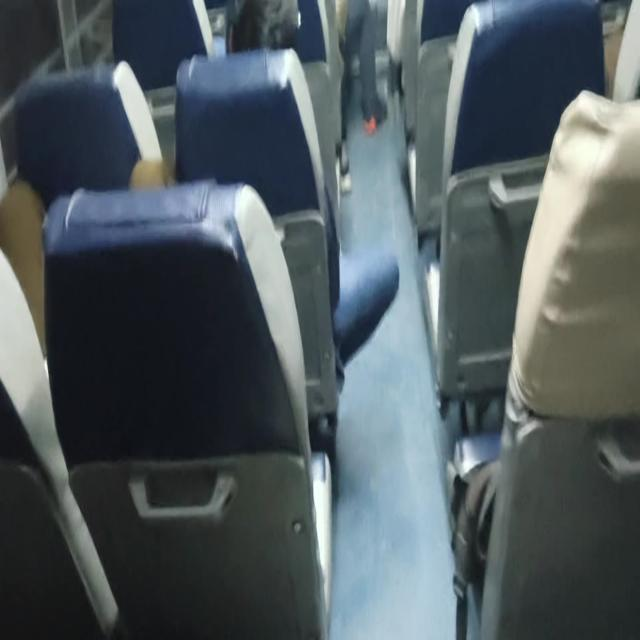person: (234, 0, 294, 58)
